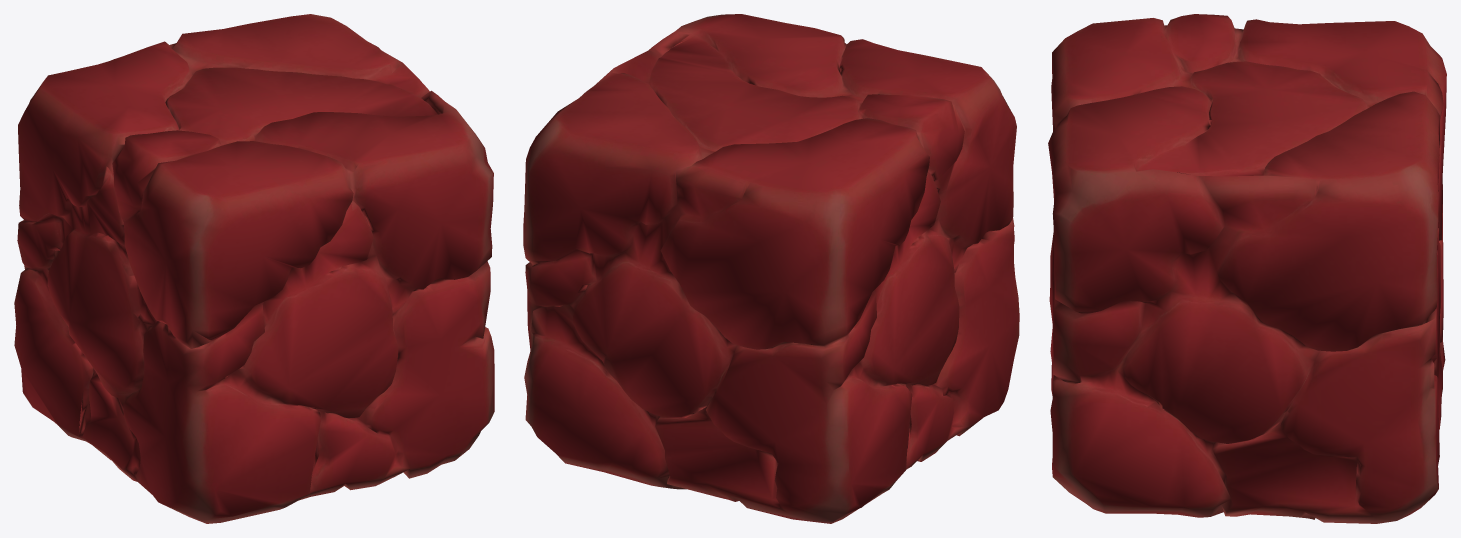
File: original_glb.glb
3 views of the same model, side by side, from view 1: azimuth 30°, elevation 25°; view 2: azimuth 150°, elevation 25°; view 3: azimuth 270°, elevation 25° (orthographic). The views are drawn at different scales.
Visible parts, largest first — view 1: tile-64-red-jasper; view 2: tile-64-red-jasper; view 3: tile-64-red-jasper.
Boxes of the visible parts, box(x1,y1,x2,y2) form: tile-64-red-jasper: box(14, 14, 494, 523); tile-64-red-jasper: box(523, 14, 1019, 523); tile-64-red-jasper: box(1048, 14, 1446, 523).
Bounding box in the file's own units: 0.998 × 0.9941 × 0.998.
1 material, 1 textured.
